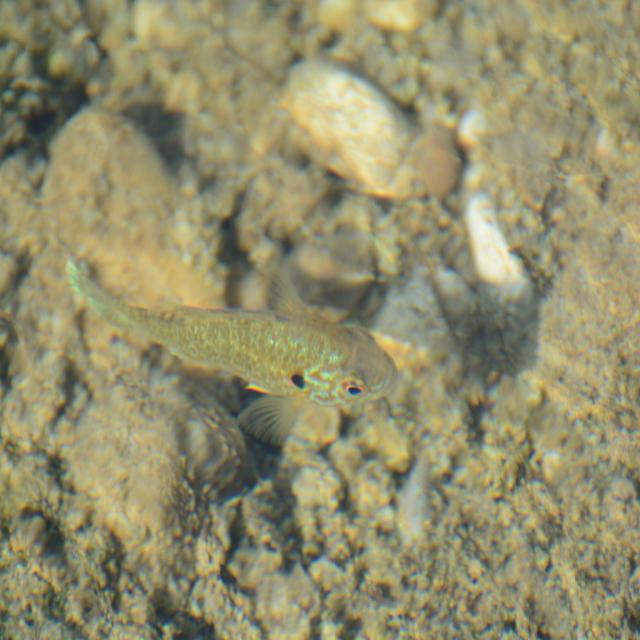Gunes Levregi: (62, 251, 399, 448)
